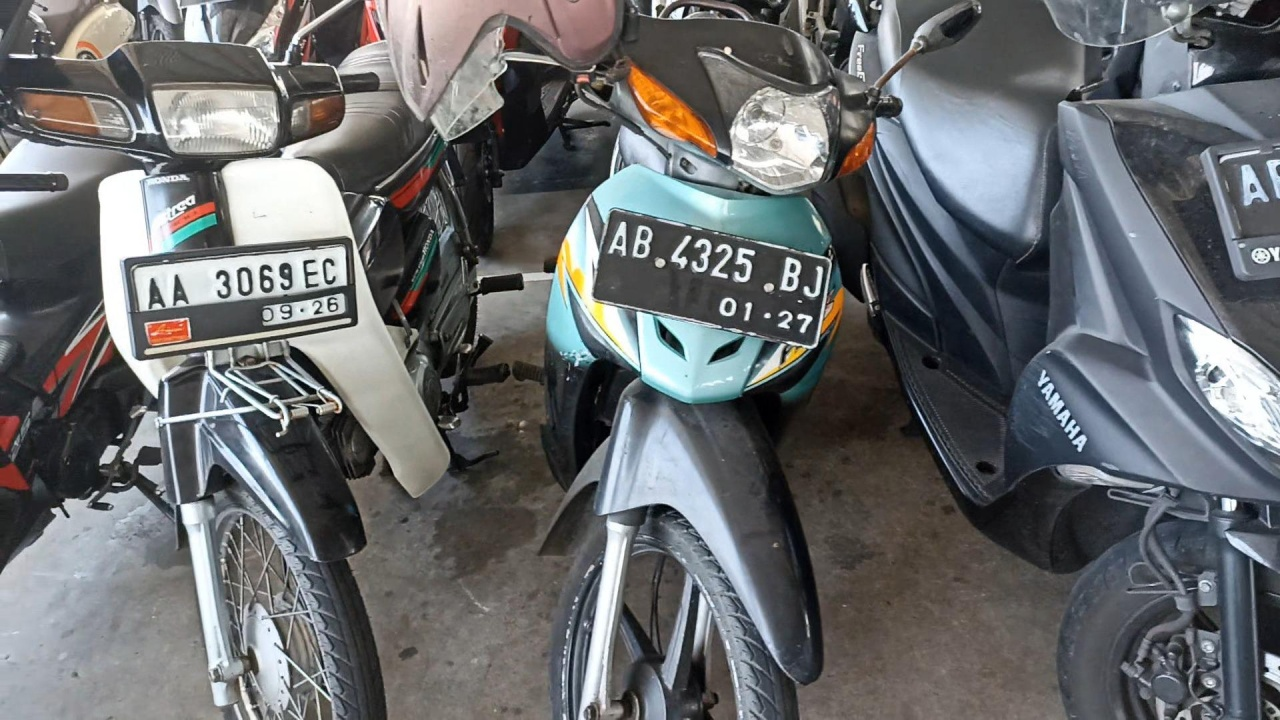plate: (592, 209, 833, 349), (128, 242, 356, 358)
